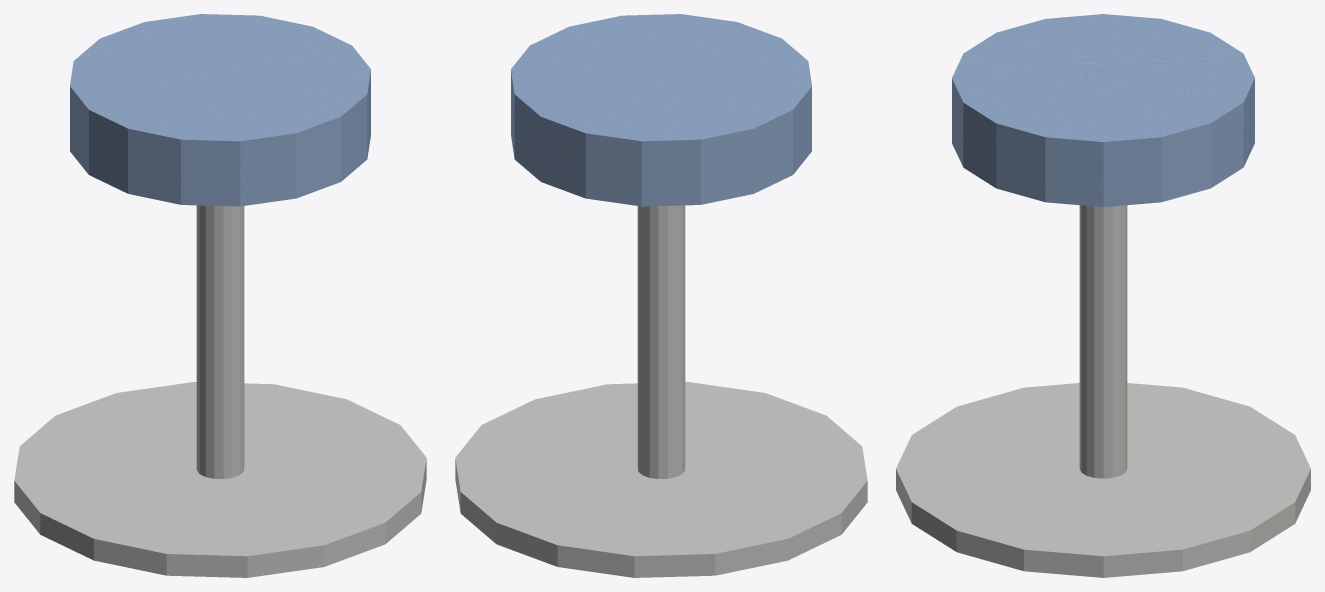
The model's file is mocho.glb.
3 views of the same model, side by side, from view 1: azimuth 30°, elevation 25°; view 2: azimuth 150°, elevation 25°; view 3: azimuth 270°, elevation 25° (orthographic).
Visible parts, largest first — view 1: mocho; view 2: mocho; view 3: mocho.
Boxes of the visible parts, left/top/right/bottom form: mocho: left=14, top=14, right=426, bottom=577; mocho: left=455, top=14, right=867, bottom=577; mocho: left=896, top=14, right=1310, bottom=577.
Size of the model in its own units: 0.52 by 0.57 by 0.52.
2 materials, 1 textured.
